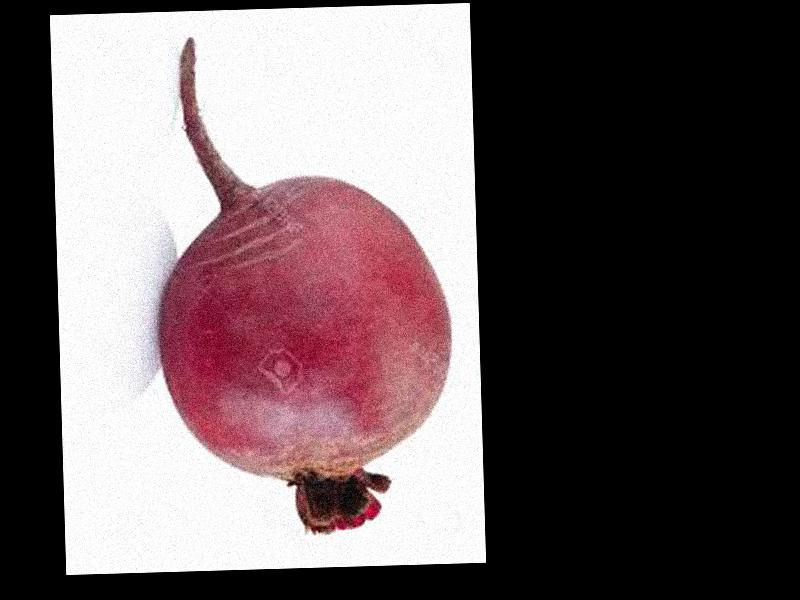Beet: (150, 30, 454, 533)
